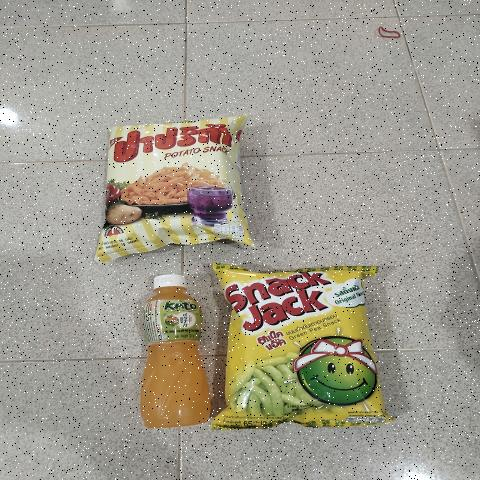paprika: (106, 126, 241, 232)
snack_jack: (240, 280, 358, 409)
